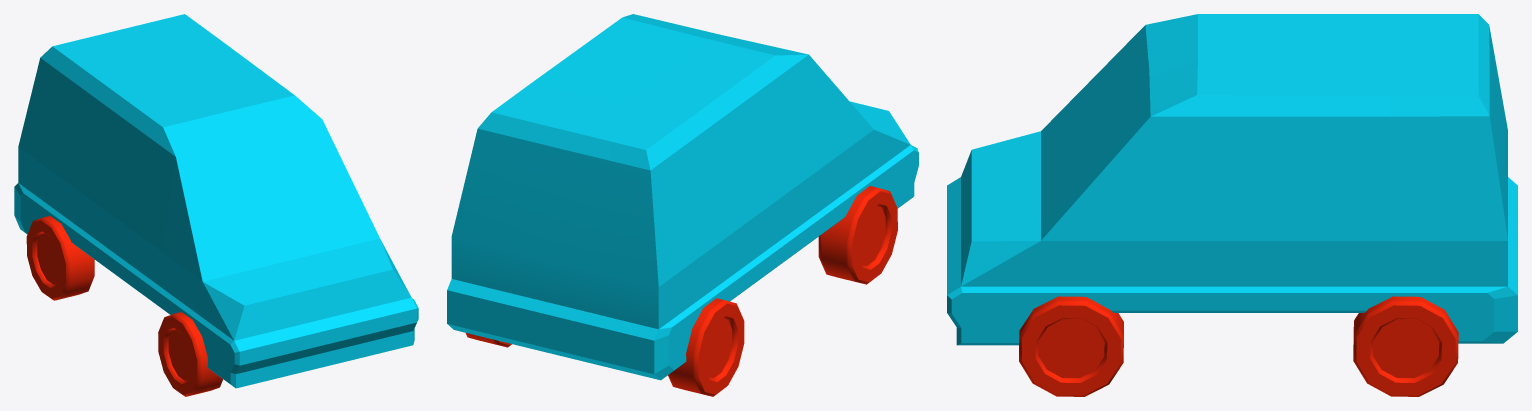
The model's file is VanMesh.fbx.
3 views of the same model, side by side, from view 1: azimuth 30°, elevation 25°; view 2: azimuth 150°, elevation 25°; view 3: azimuth 270°, elevation 25° (orthographic). The views are drawn at different scales.
Visible parts, largest first — view 1: VanMesh, RealTire1, RealTire; view 2: VanMesh, RealTire, RealTire1; view 3: VanMesh, RealTire3, RealTire2.
Boxes of the visible parts, x1=… form: VanMesh: x1=14, y1=14, x2=418, y2=388; RealTire1: x1=26, y1=216, x2=94, y2=300; RealTire: x1=158, y1=312, x2=222, y2=396; VanMesh: x1=447, y1=14, x2=918, y2=380; RealTire: x1=818, y1=186, x2=897, y2=284; RealTire1: x1=668, y1=298, x2=744, y2=396; VanMesh: x1=947, y1=14, x2=1517, y2=345; RealTire3: x1=1353, y1=296, x2=1458, y2=396; RealTire2: x1=1019, y1=296, x2=1123, y2=396.
Size of the model in its own units: 1.07 by 1.11 by 2.05.
